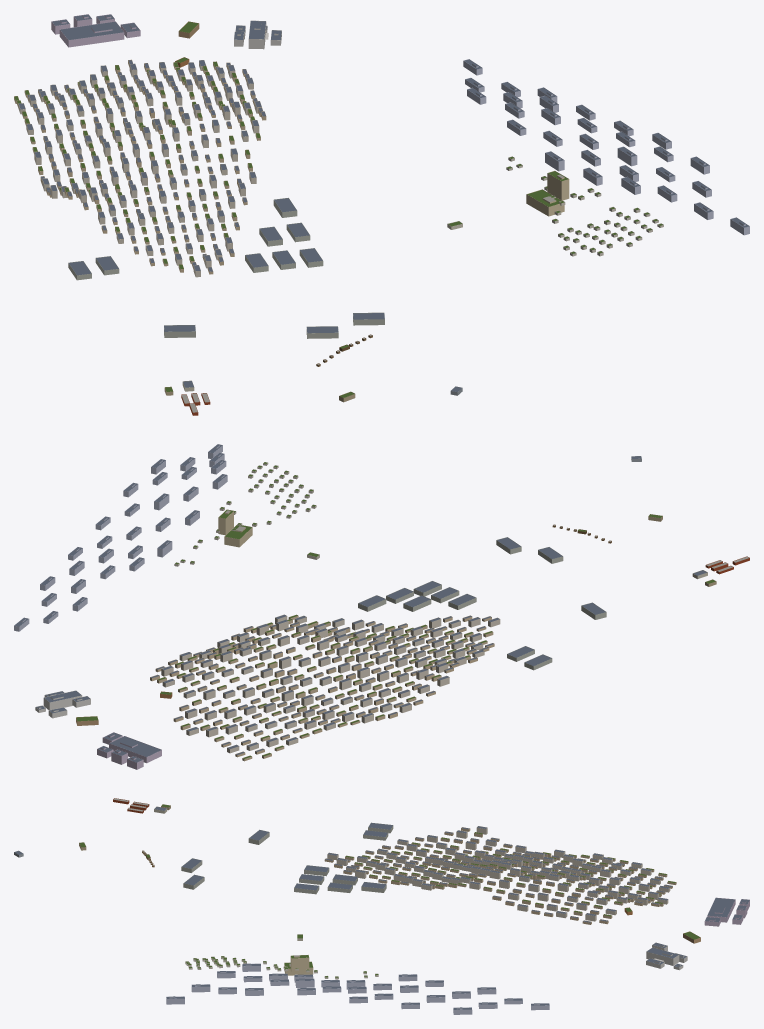
File: buildings.glb
3 views of the same model, one above another, from view 1: azimuth 30°, elevation 25°; view 2: azimuth 150°, elevation 25°; view 3: azimuth 270°, elevation 25° (orthographic). The views are drawn at different scales.
Visible parts, largest first — view 1: phase3, phase1, phase2; view 2: phase3, phase1, phase2; view 3: phase3, phase1, phase2.
Part boxes in pixels (x1,y1,x2,y2): phase3: (46,14,384,338); phase1: (14,20,663,395); phase2: (164,21,749,402); phase3: (97,537,606,769); phase1: (35,456,641,761); phase2: (14,444,716,725); phase3: (181,822,749,926); phase1: (14,845,687,979); phase2: (79,804,700,1014).
Size of the model in its own units: 1776 by 161 by 2541.
